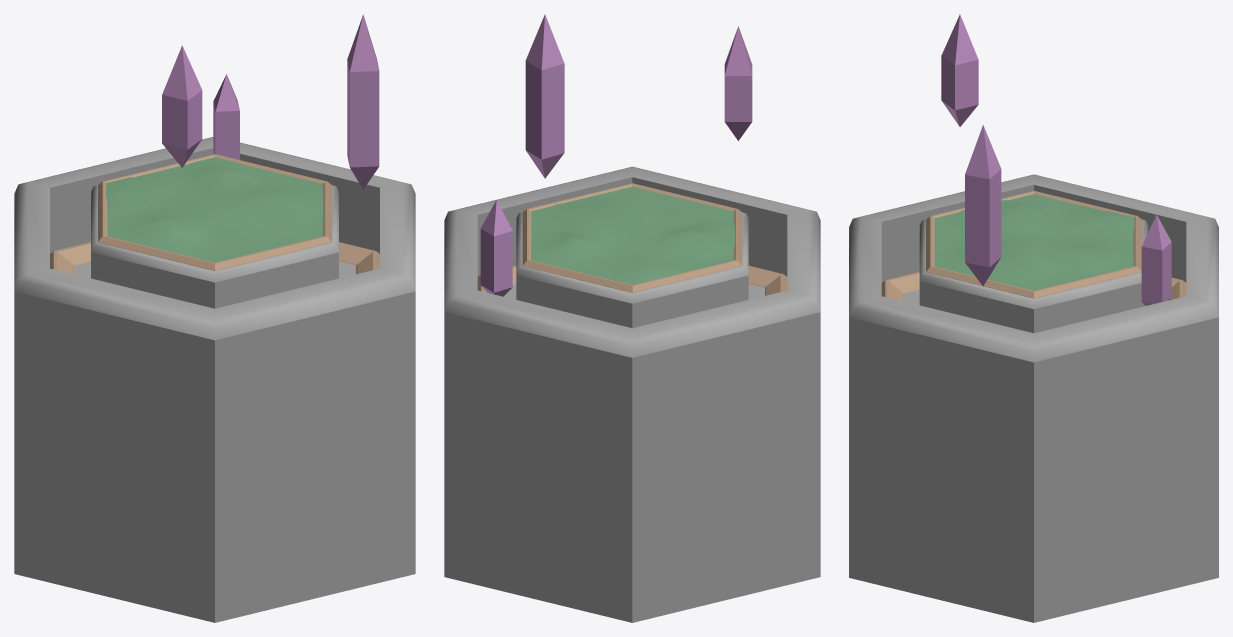
Rendered from presentation_tile5.fbx.
3 renders of one model, left to right at view 1: azimuth 30°, elevation 25°; view 2: azimuth 150°, elevation 25°; view 3: azimuth 270°, elevation 25°, orthographic. The views are drawn at different scales.
Visible parts, largest first — view 1: presentation_tile5; view 2: presentation_tile5; view 3: presentation_tile5.
Boxes of the visible parts, x1,y1,x2,y2 form: presentation_tile5: (14, 14, 415, 622); presentation_tile5: (444, 14, 820, 622); presentation_tile5: (849, 14, 1218, 622).
Bounding box in the file's own units: 3.88 × 4.87 × 3.36.
